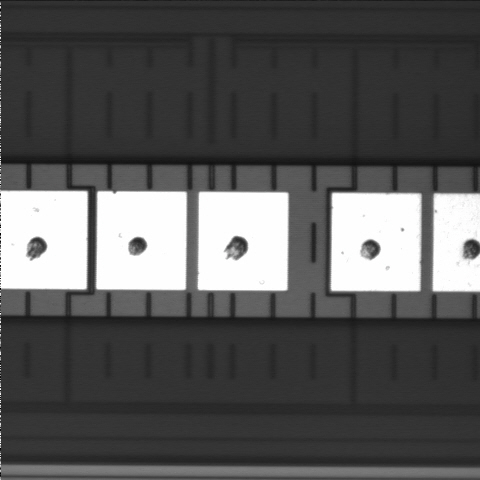pad: (96, 191, 187, 290), (198, 192, 288, 291), (331, 193, 421, 291)
